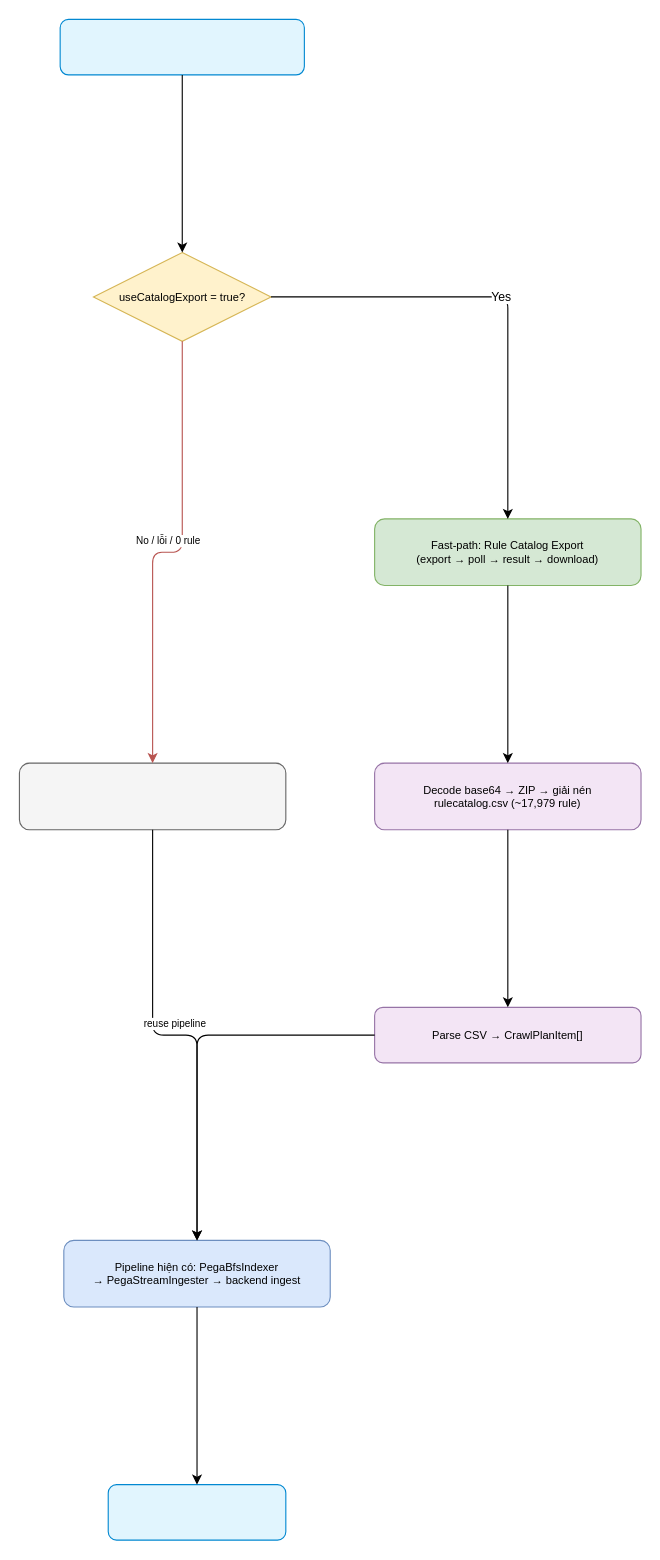
Some shapes in this 660 by 1560 pixel diagram are drawn without their labels. Each missing label, with the box of its shape:
Developer chạy lệnh Index Pega: (59, 18, 304, 75)
Fallback: BFS crawl (RuleSet enumeration + discovery): (18, 762, 286, 830)
Knowledge Base (KB): (107, 1484, 286, 1540)
